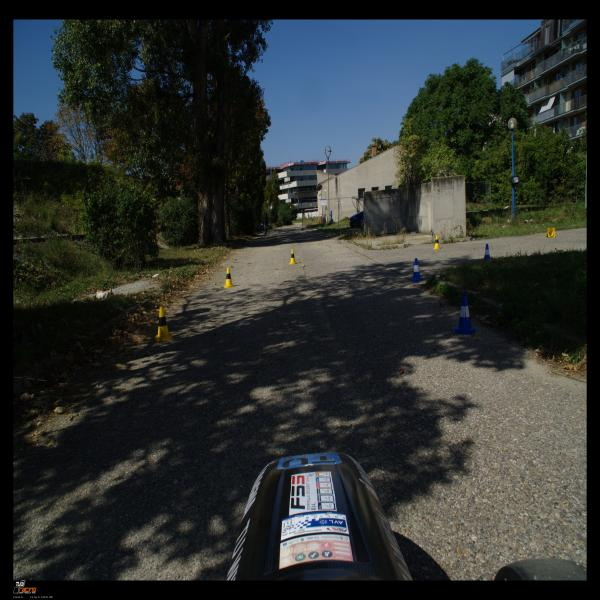blue_cone: (452, 293, 477, 336), (410, 258, 424, 282), (484, 244, 490, 260)
yellow_cone: (153, 306, 174, 341), (223, 267, 235, 288), (288, 249, 297, 265), (433, 235, 441, 249), (545, 228, 555, 238)
